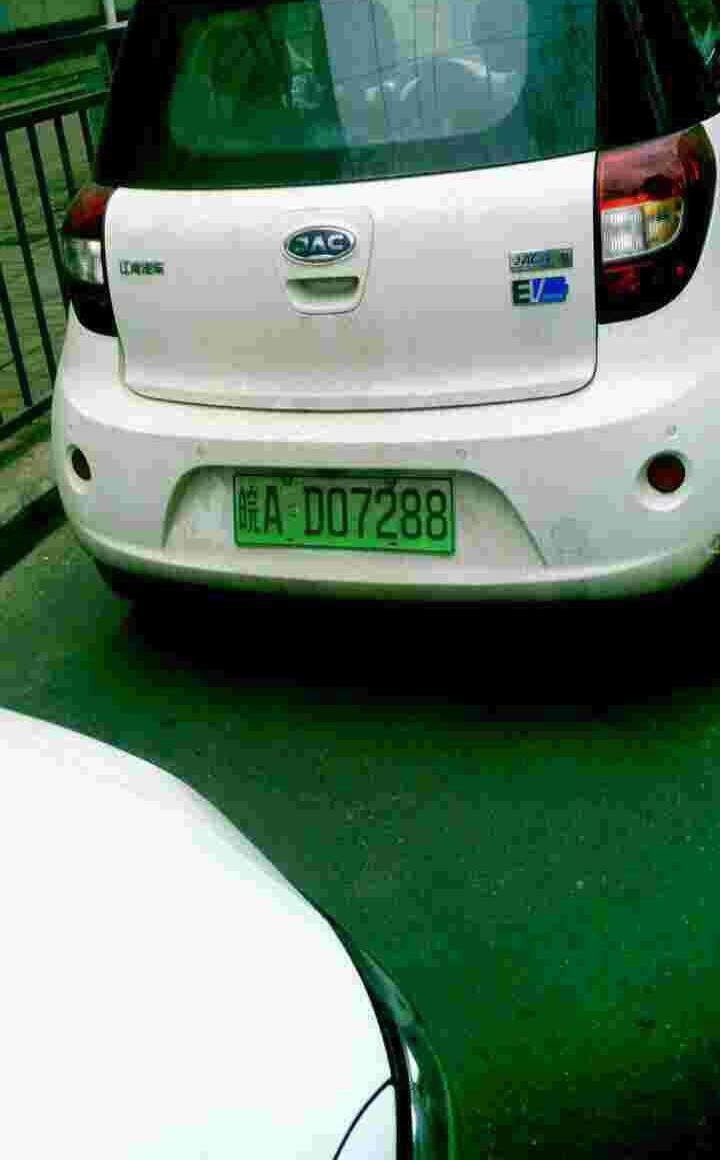car: (221, 471, 475, 561)
